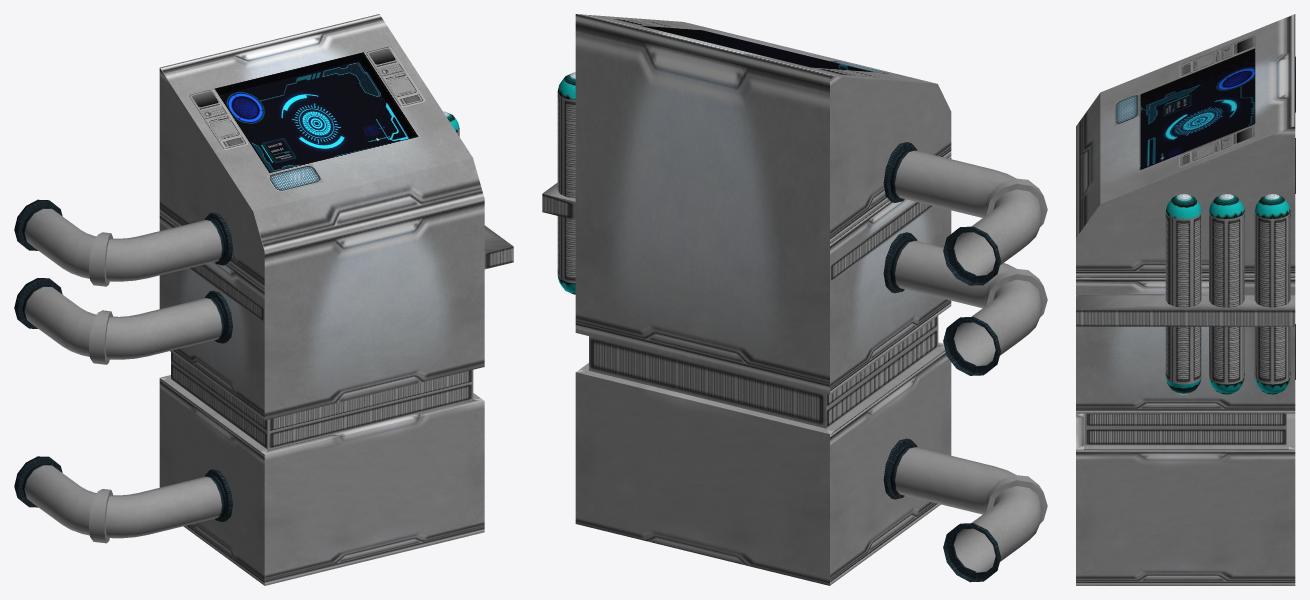
File: cpu.FBX
The picture shows the model from 3 angles, left to right: view 1: azimuth 30°, elevation 25°; view 2: azimuth 150°, elevation 25°; view 3: azimuth 270°, elevation 25°; orthographic projection. The views are drawn at different scales.
Parts seen in each view (by area): view 1: Cpu001; view 2: Cpu001; view 3: Cpu001.
Boxes of the visible parts, left/top/right/bottom form: Cpu001: left=14, top=14, right=513, bottom=585; Cpu001: left=542, top=14, right=1047, bottom=585; Cpu001: left=1076, top=14, right=1295, bottom=585.
Size of the model in its own units: 141 by 151 by 65.3.
Materials: 1 (1 with a texture image).
